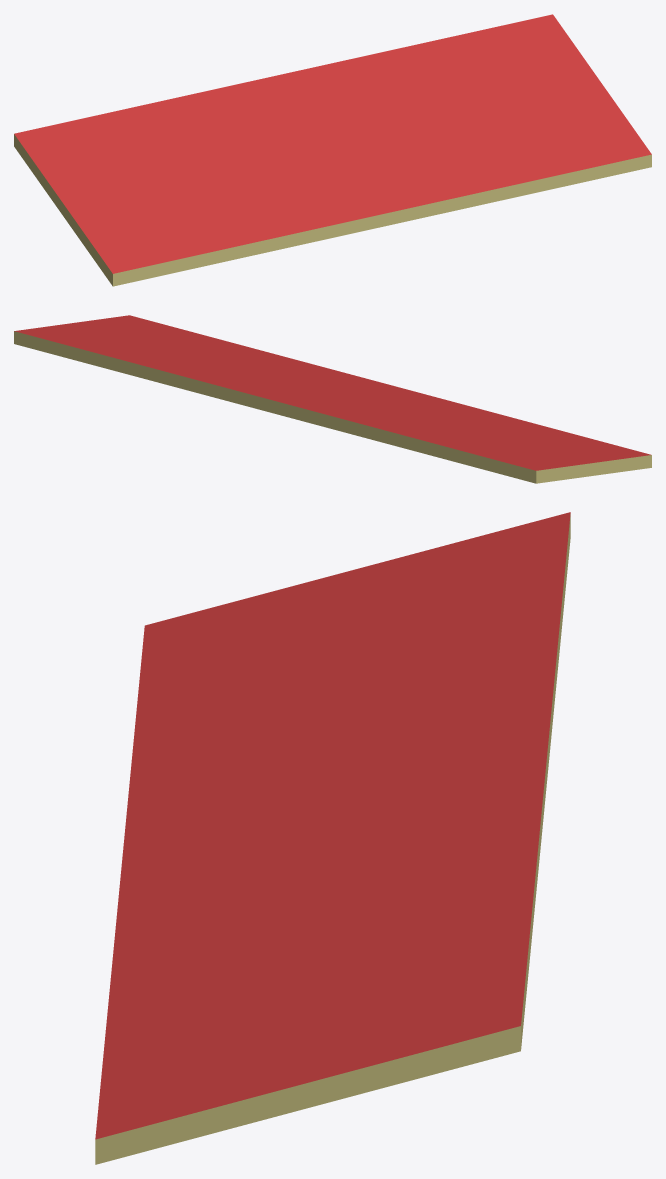
3 views of the same model, one above another, from view 1: azimuth 30°, elevation 25°; view 2: azimuth 150°, elevation 25°; view 3: azimuth 270°, elevation 25° (orthographic). The views are drawn at different scales.
Bounding box in the file's own units: 4.41 × 1.7 × 0.577.
